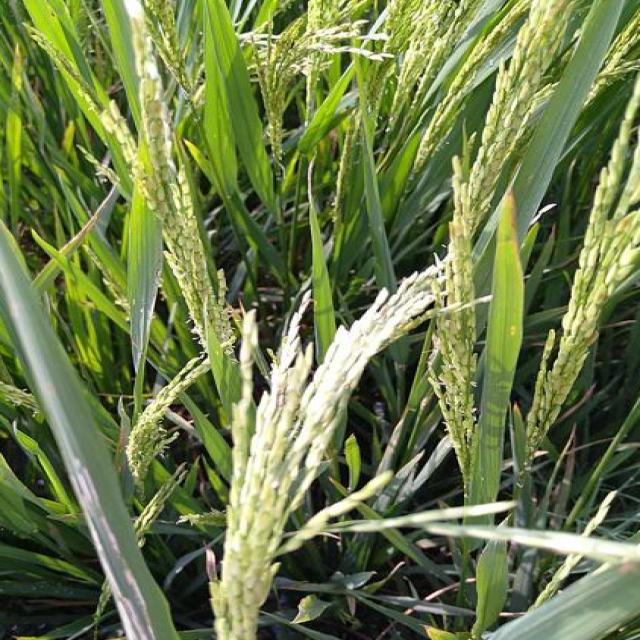Panicle Blight: (205, 545, 220, 586), (270, 384, 287, 420), (611, 216, 632, 238), (585, 329, 598, 347), (595, 287, 605, 306)
